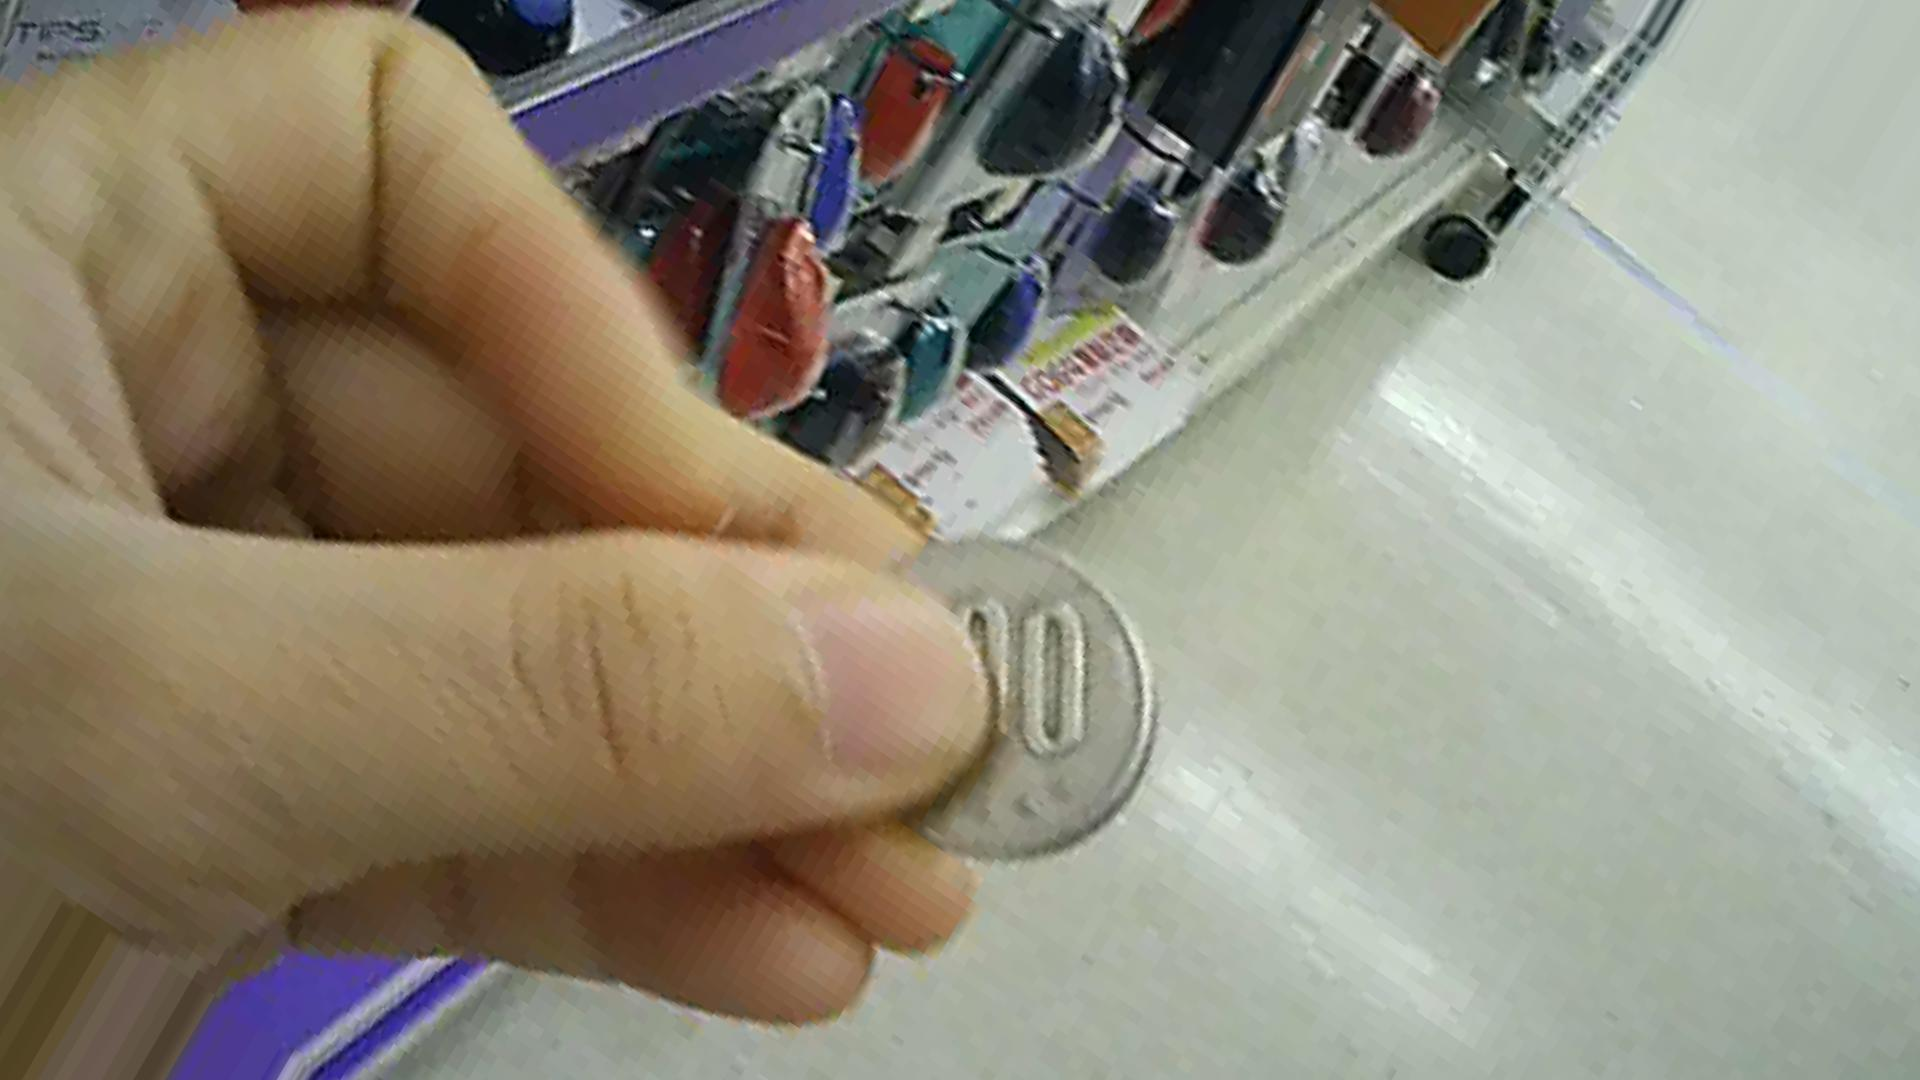100 Yen: (808, 516, 1153, 872)
